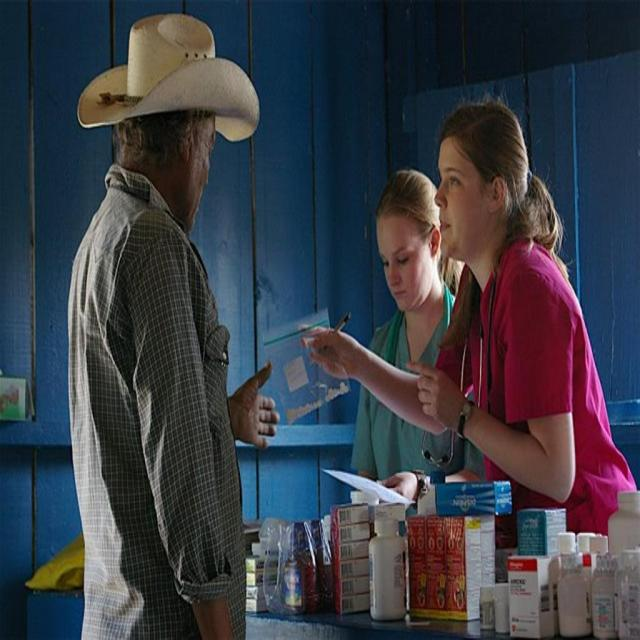nomask: (164, 96, 216, 237), (436, 135, 484, 265), (382, 208, 426, 314)
